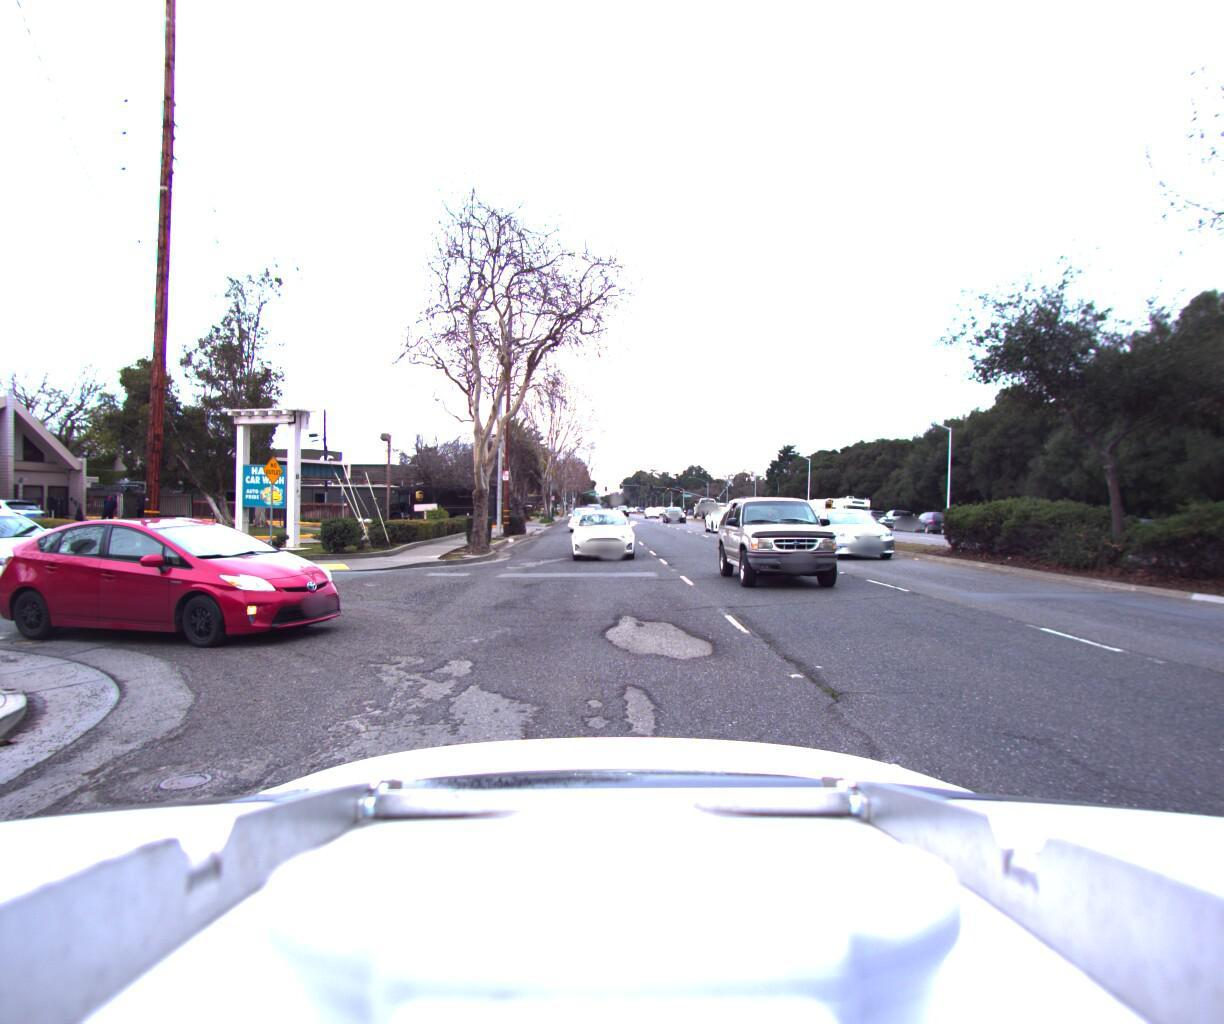car: (0, 511, 372, 666), (715, 491, 866, 605), (0, 501, 131, 617), (803, 503, 918, 561), (1159, 496, 1224, 560), (567, 502, 636, 559), (0, 494, 54, 536), (702, 503, 753, 531), (905, 506, 956, 531), (873, 505, 923, 528)
other_vehicle: (827, 491, 871, 523)
truck: (380, 479, 500, 522), (689, 492, 728, 516)
